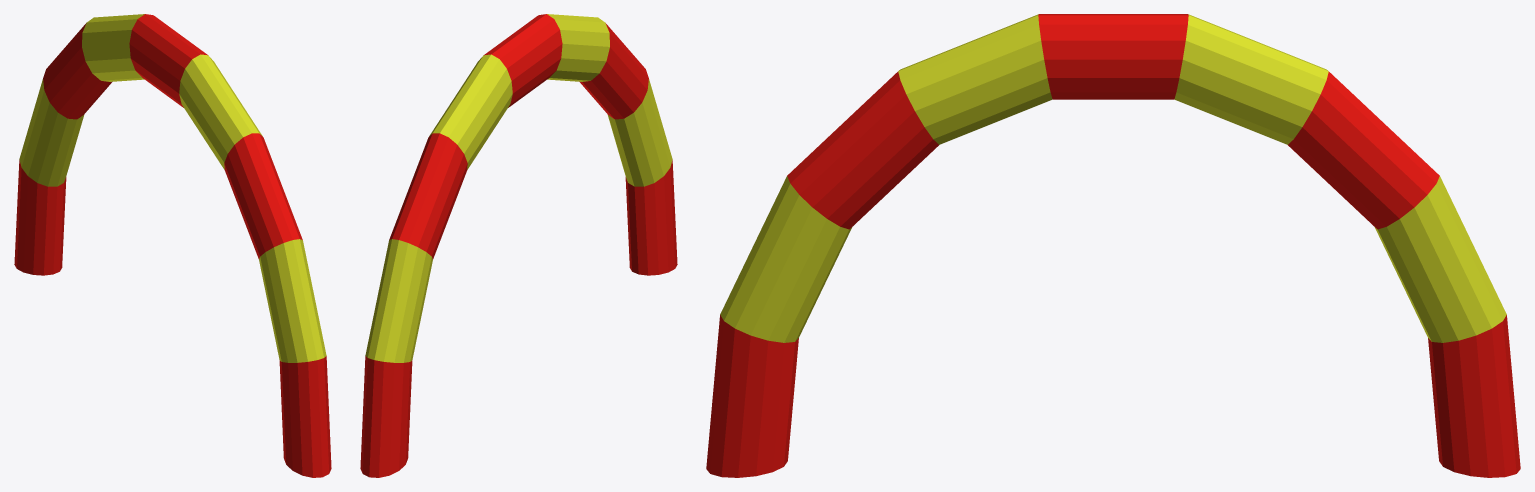
Rendered from start_arch.glb.
3 views of the same model, side by side, from view 1: azimuth 30°, elevation 25°; view 2: azimuth 150°, elevation 25°; view 3: azimuth 270°, elevation 25° (orthographic). The views are drawn at different scales.
Visible parts, largest first — view 1: arch; view 2: arch; view 3: arch.
Part boxes in pixels (left/top/right/bottom): arch: left=14, top=14, right=331, bottom=477; arch: left=360, top=14, right=677, bottom=477; arch: left=706, top=14, right=1520, bottom=477.
Size of the model in its own units: 0.9487 by 8.37 by 13.61.
